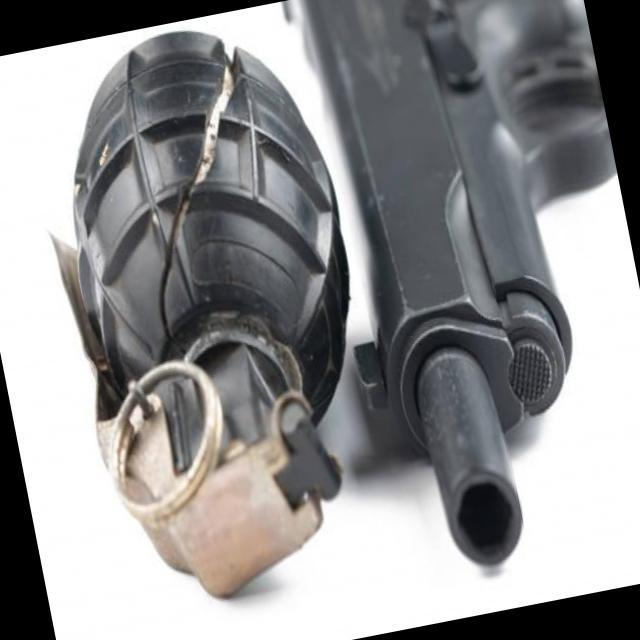grenade: (15, 4, 421, 618)
